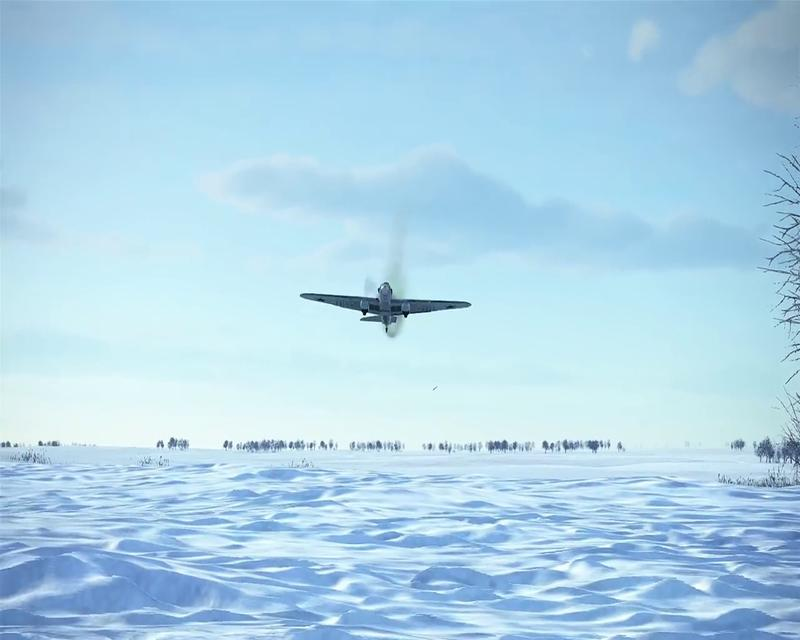UAV: (300, 281, 472, 334)
